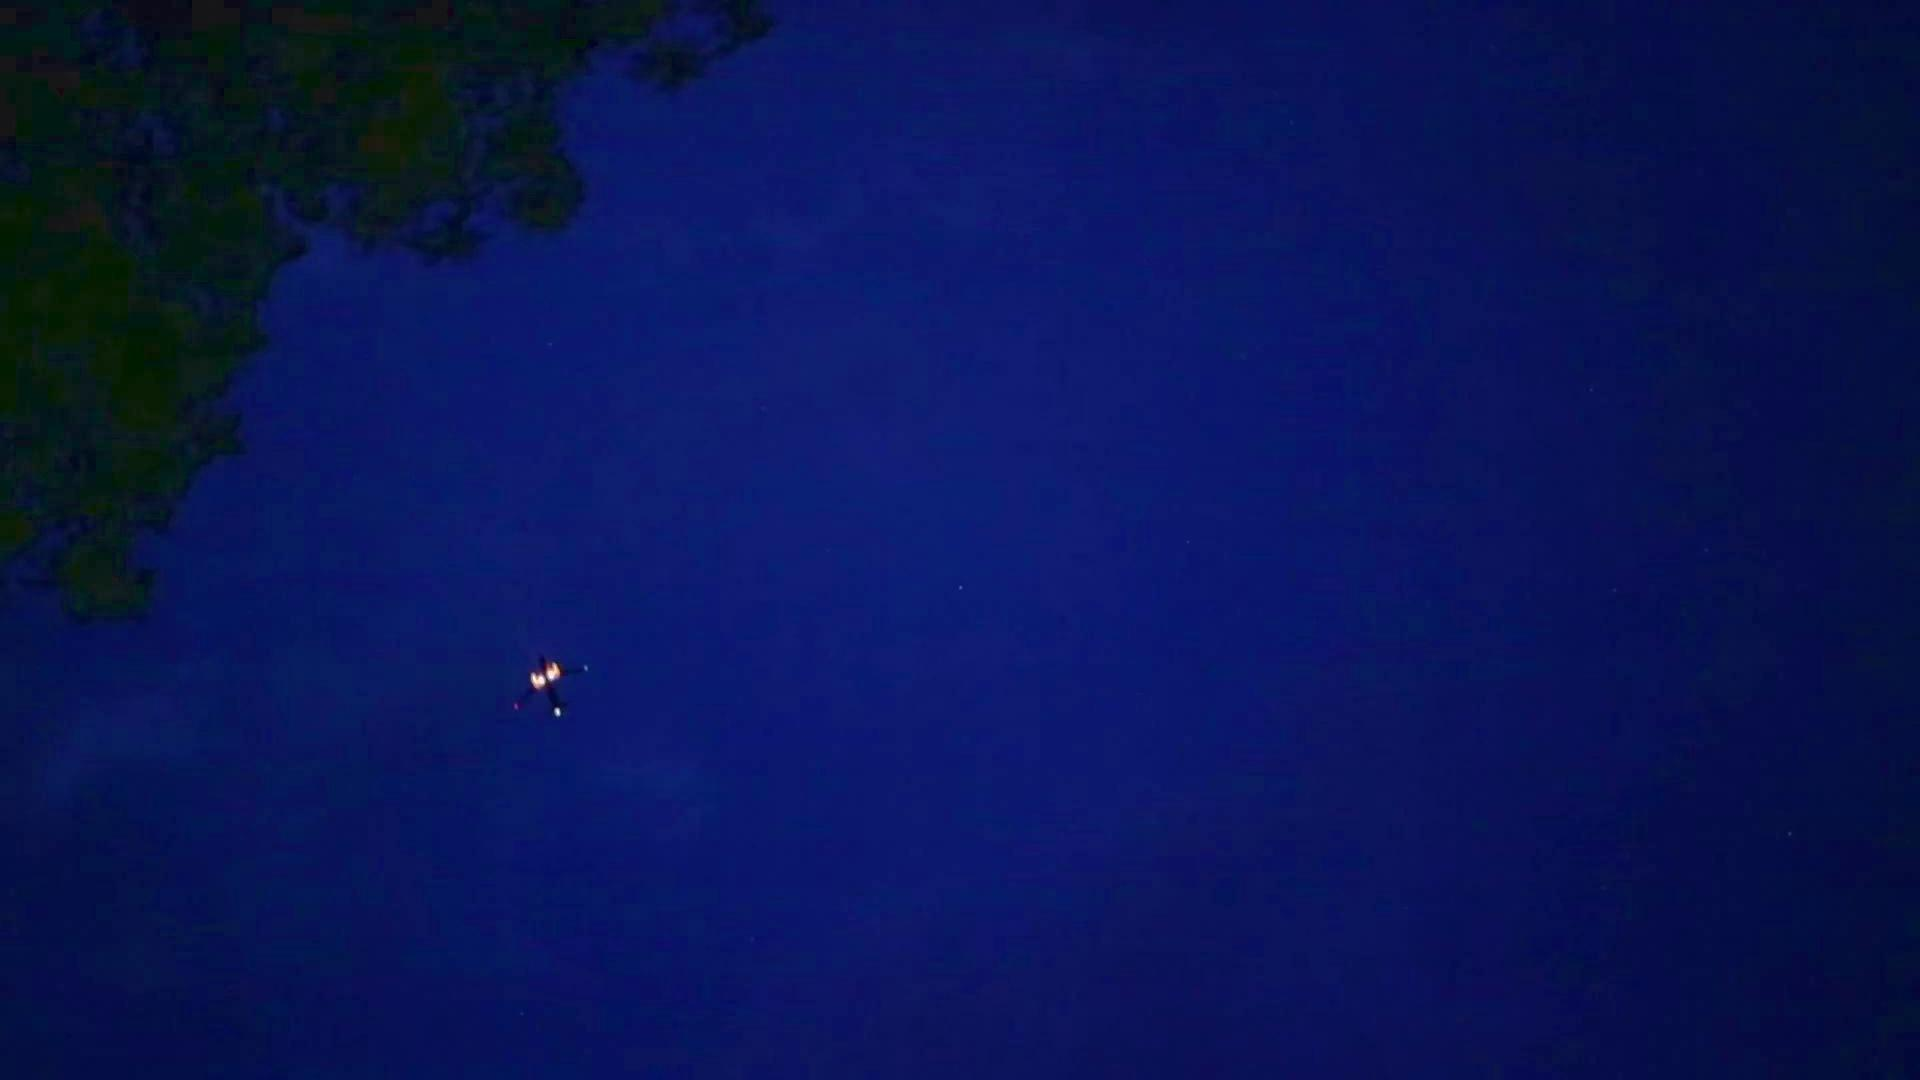Plane: (473, 642, 624, 709)
